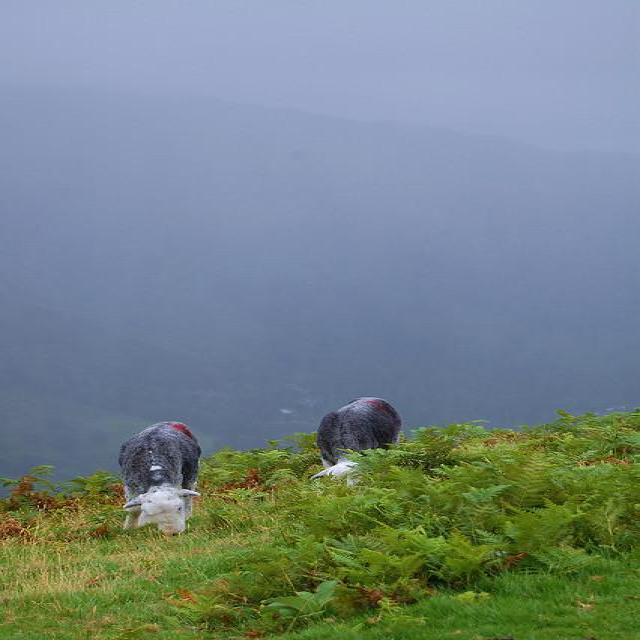Sheep: (119, 421, 206, 535), (307, 397, 404, 481)
